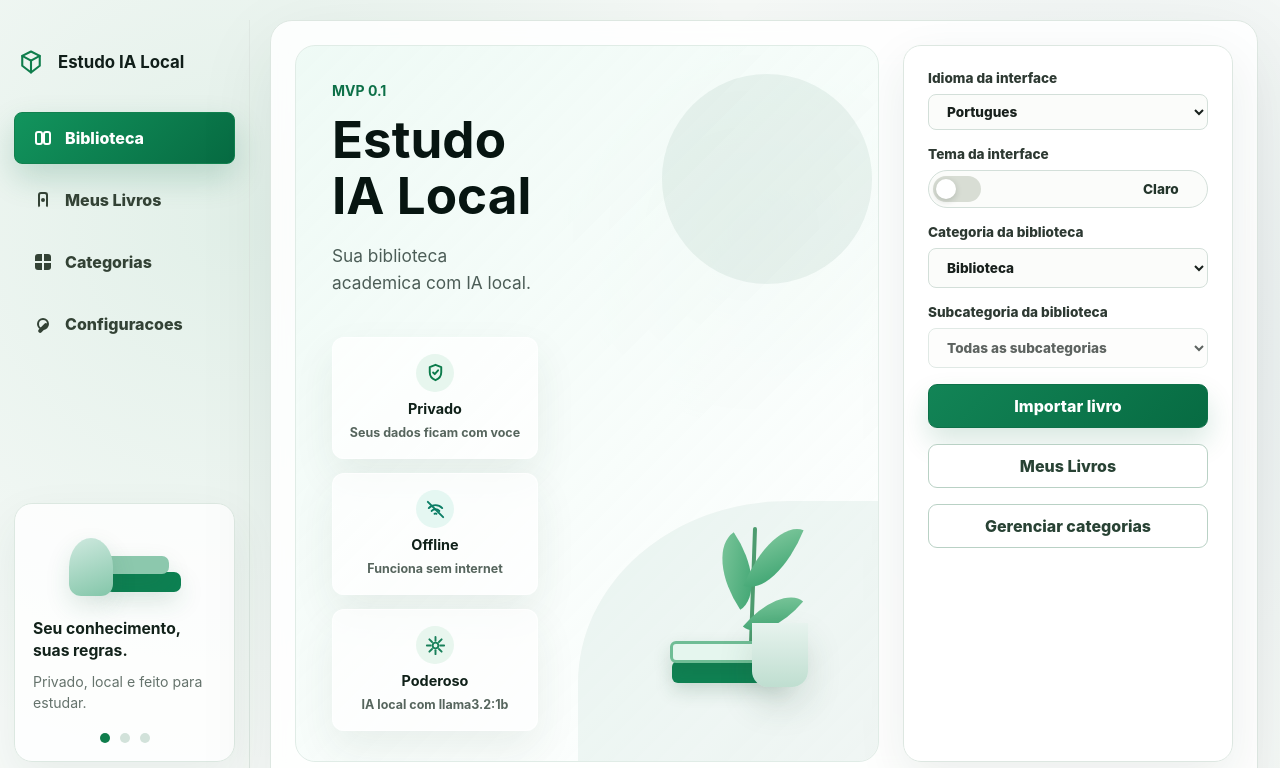
Test: App › opens the active study in a secondary page and returns to the library
Check: the heading "Estudo ativo" is not shown
Click the button "Importar livro".
click(1068, 406)  # box [928,384,1208,428]
(page scrolled)
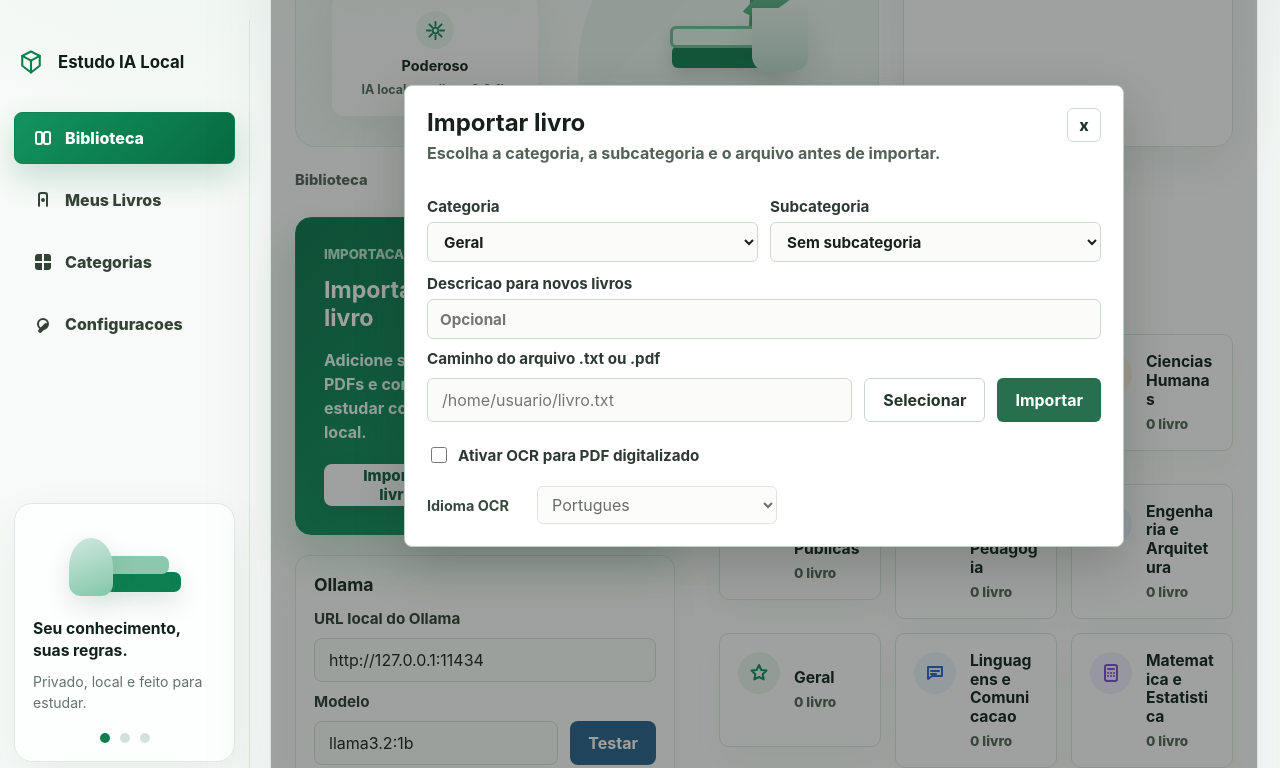
Type "/tmp/secundario.txt" into the field labelled "Caminho do arquivo .txt ou .pdf".
click(640, 400); type("/tmp/secundario.txt")  # box [427,378,852,422]
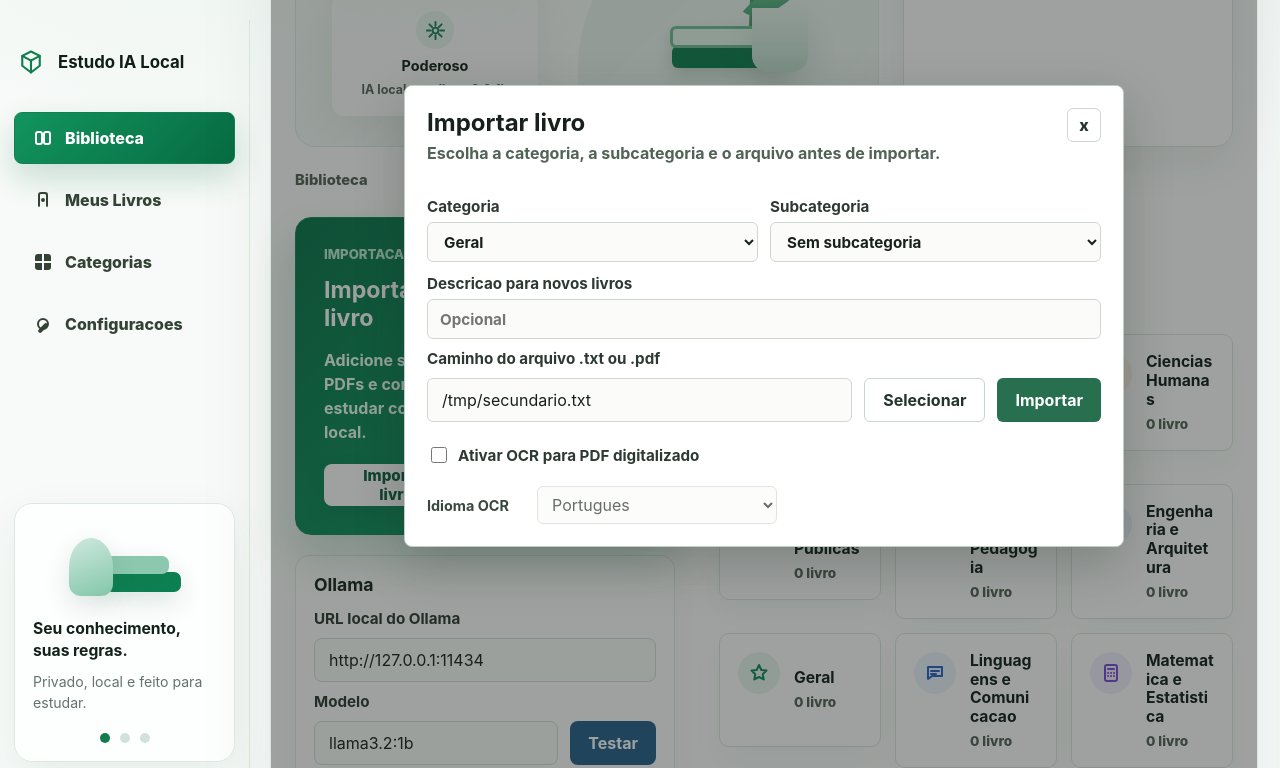
Click the button "Importar".
click(1049, 400)  # box [997,378,1101,422]
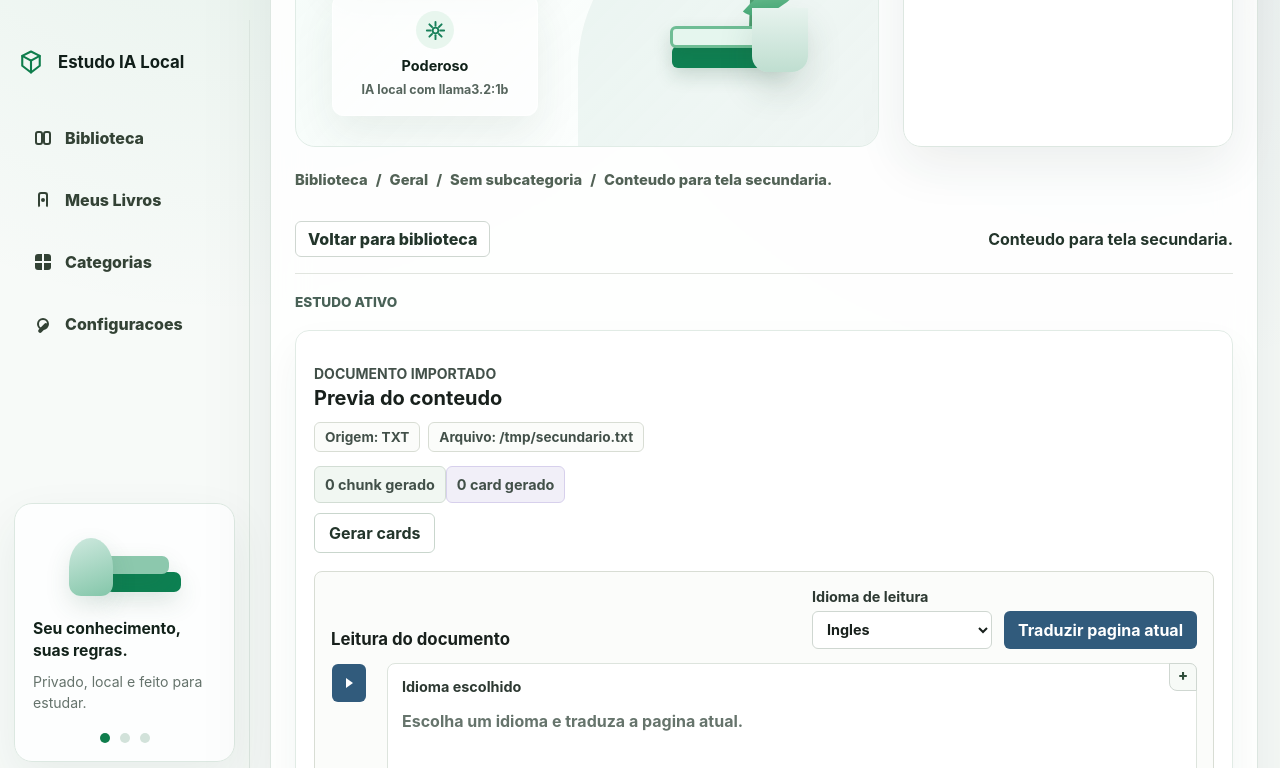
Check: the heading "Estudo ativo" is shown, box [295,294,397,310]
Check: the heading "Previa do conteudo" is shown, box [314,386,502,410]
Check: the heading "Importacao e IA" is gone
Click the button "Voltar para biblioteca".
click(393, 239)  # box [295,221,490,257]
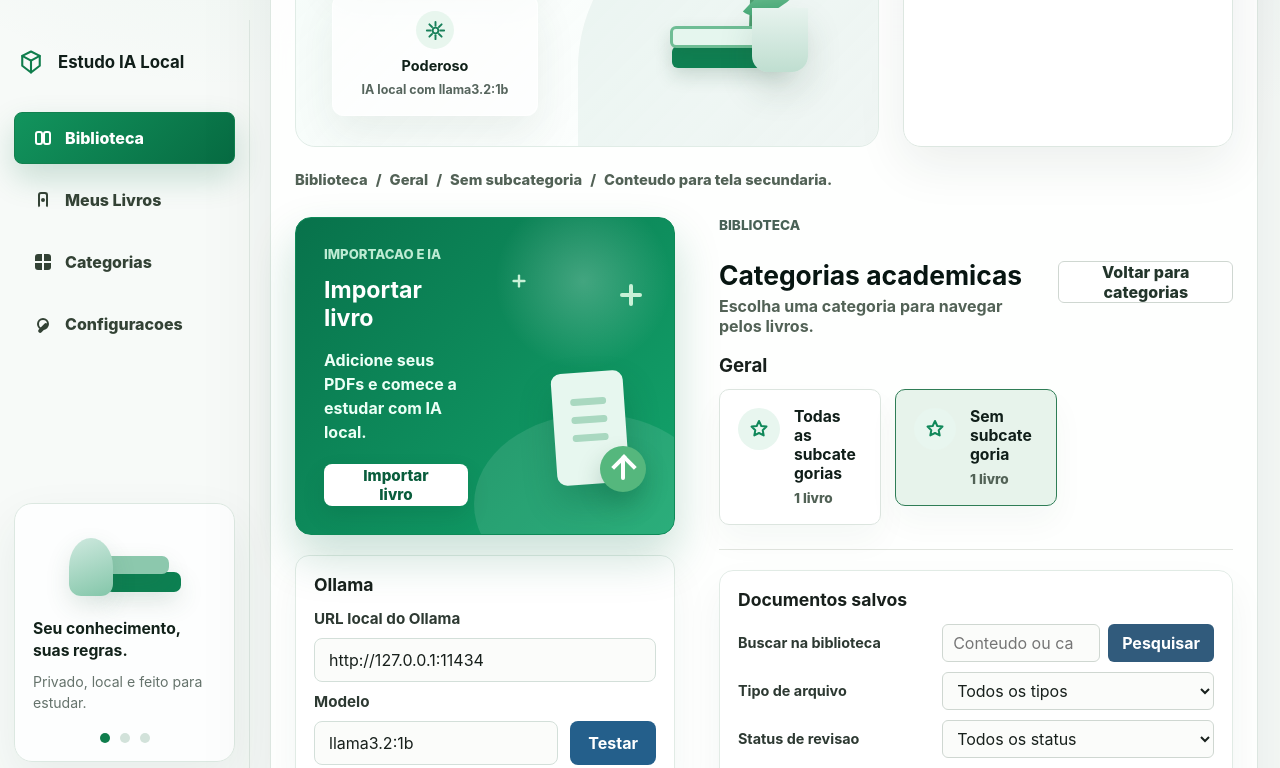
Check: the heading "Importacao e IA" is shown, box [324,246,441,262]
Check: the heading "Biblioteca" is shown, box [719,217,800,233]
Check: the heading "Estudo ativo" is gone
